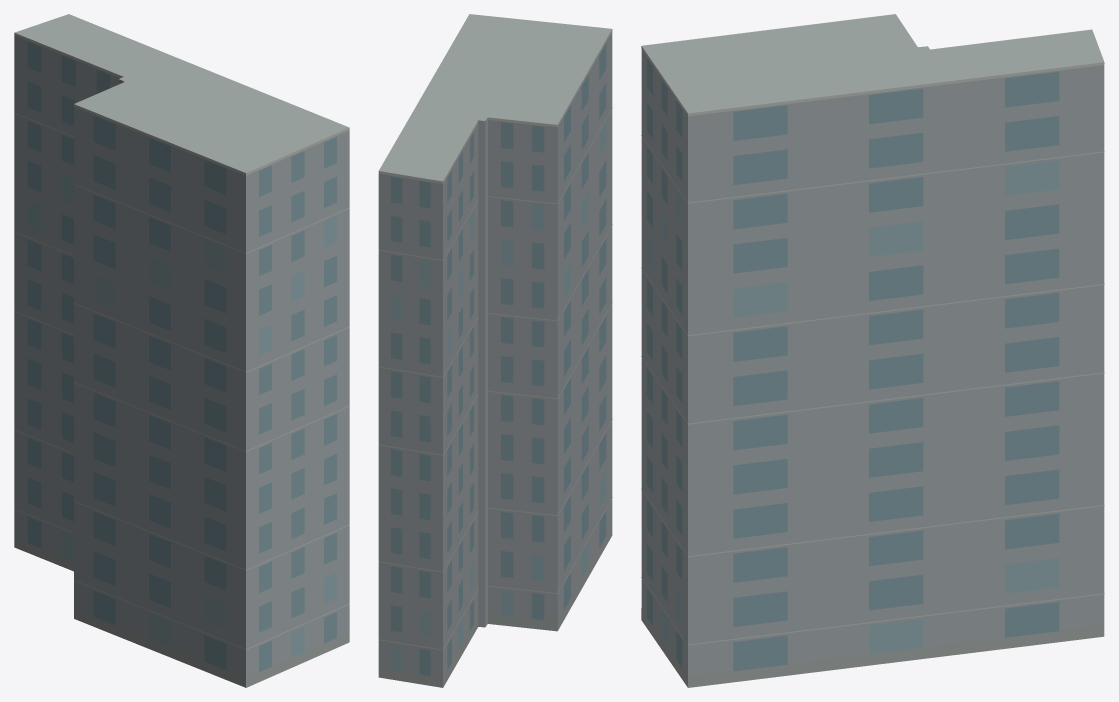
The model's file is survey-upis-32855965.glb.
3 renders of one model, left to right at view 1: azimuth 30°, elevation 25°; view 2: azimuth 150°, elevation 25°; view 3: azimuth 270°, elevation 25°, orthographic. The views are drawn at different scales.
Parts seen in each view (by area): view 1: survey-upis-32855965.tmp; view 2: survey-upis-32855965.tmp; view 3: survey-upis-32855965.tmp.
Part boxes in pixels (x1,y1,x2,y2): survey-upis-32855965.tmp: [14, 14, 349, 687]; survey-upis-32855965.tmp: [378, 14, 612, 687]; survey-upis-32855965.tmp: [641, 14, 1104, 687].
Bounding box in the file's own units: 17.89 × 48.1 × 35.16.
